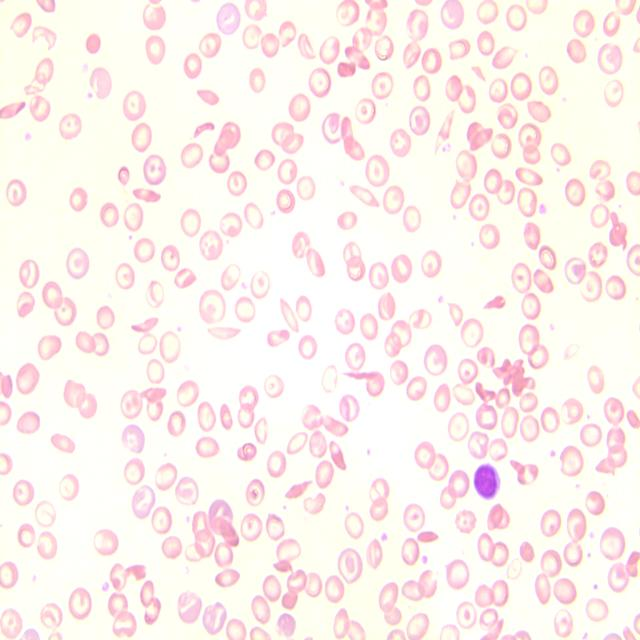sickle cell: (432, 102, 461, 160), (280, 473, 316, 507), (334, 360, 378, 386), (204, 321, 245, 347), (129, 308, 161, 336)
